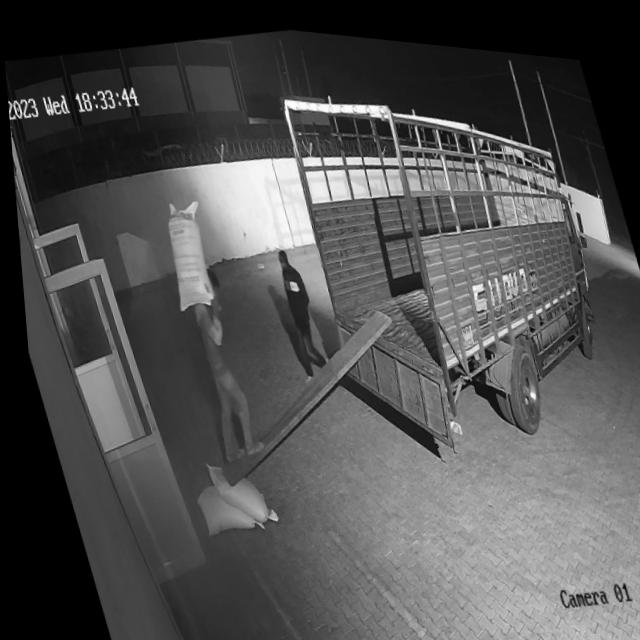sack: (145, 191, 223, 313), (195, 446, 272, 527), (184, 472, 259, 538)
